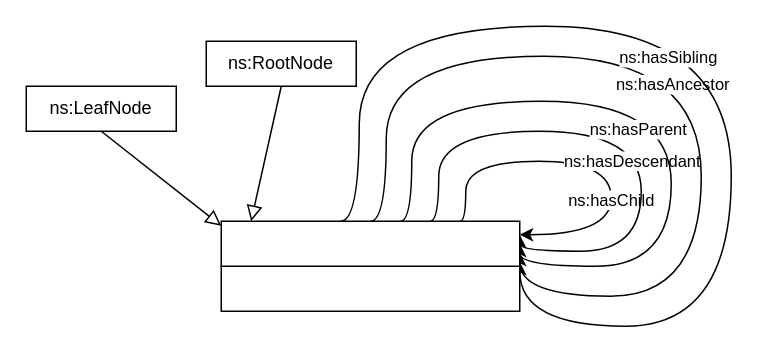
Image size: 758x353. Some labels were removed from this diagram. The box of each missing label's shape, as (x1, y1, x2, y2) in pixels:
ns:hasOutDegree:positiveInteger: (220, 265, 520, 311)
ns:TreeNode: (220, 220, 520, 266)
